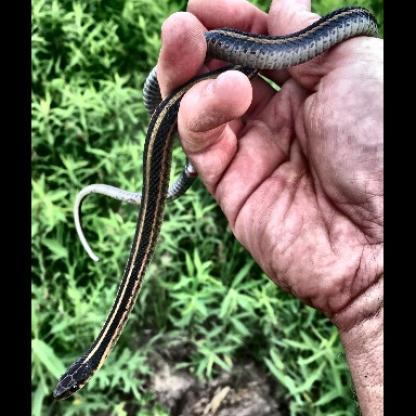Snake: (49, 37, 176, 402)
